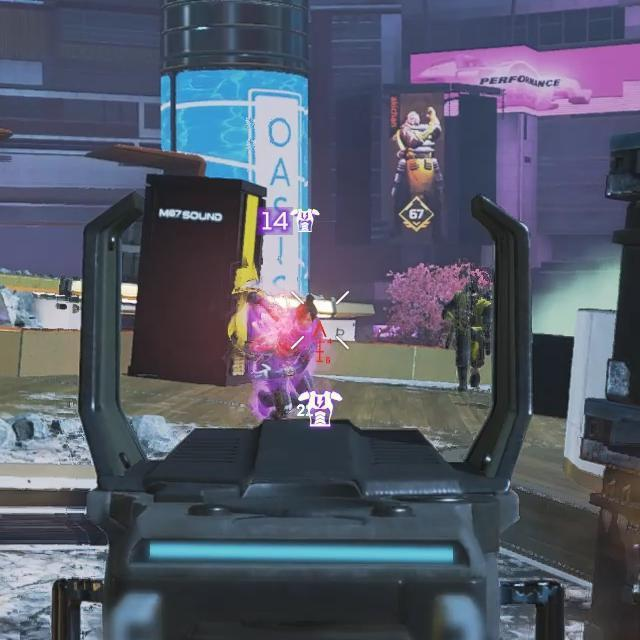avatar: (255, 293, 322, 421), (439, 276, 492, 393)
